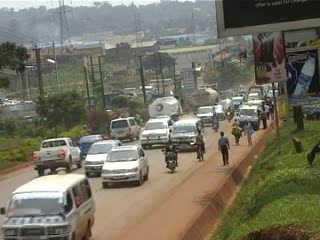Car: (99, 144, 152, 189), (81, 138, 124, 179), (140, 113, 176, 150), (74, 133, 108, 158), (192, 102, 216, 126), (206, 102, 227, 121)
Motorcycle: (160, 135, 182, 173), (208, 110, 223, 134), (223, 105, 235, 122)
